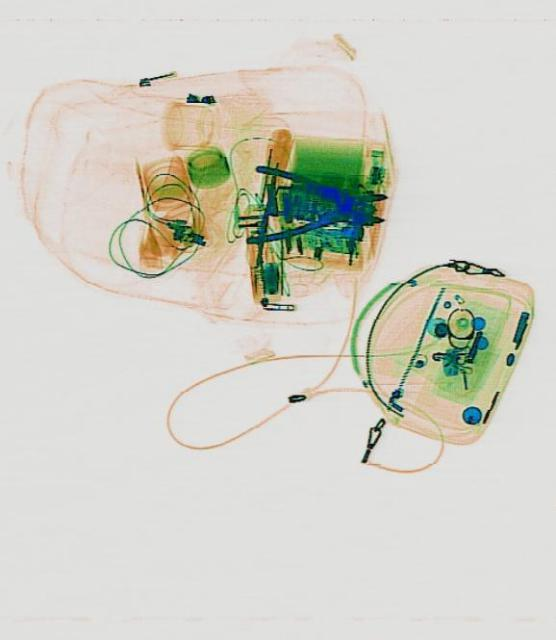Pliers: (241, 161, 385, 249)
